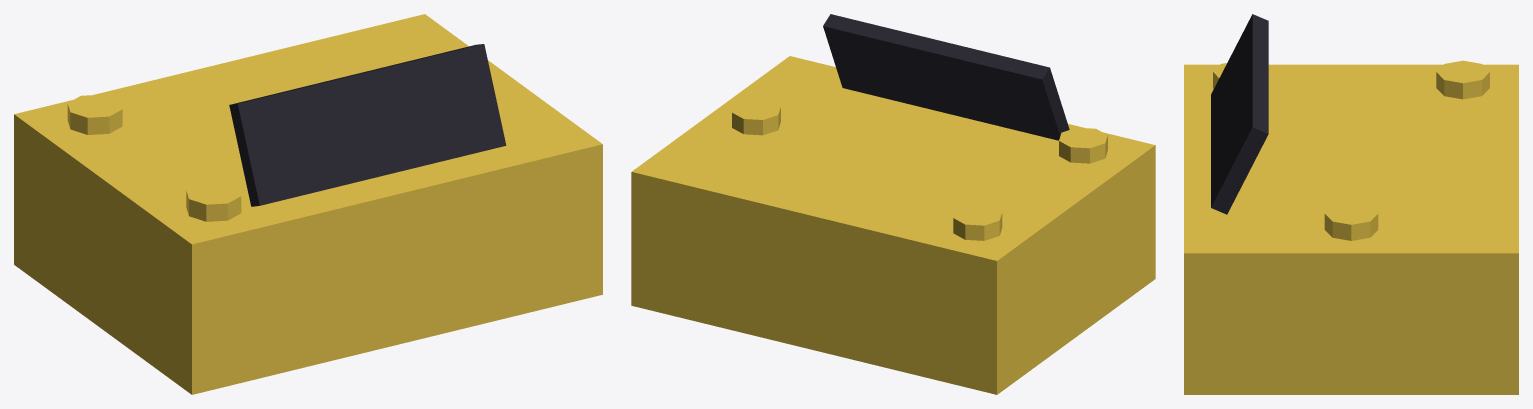
The model's file is Prop_Brk_AssemblyPiece_Cockpit_LOD1.glb.
3 renders of one model, left to right at view 1: azimuth 30°, elevation 25°; view 2: azimuth 150°, elevation 25°; view 3: azimuth 270°, elevation 25°, orthographic. The views are drawn at different scales.
Visible parts, largest first — view 1: Prop_Brk_AssemblyPiece_Cockpit; view 2: Prop_Brk_AssemblyPiece_Cockpit; view 3: Prop_Brk_AssemblyPiece_Cockpit.
Part boxes in pixels (x1,y1,x2,y2): Prop_Brk_AssemblyPiece_Cockpit: [14, 14, 602, 394]; Prop_Brk_AssemblyPiece_Cockpit: [631, 14, 1155, 394]; Prop_Brk_AssemblyPiece_Cockpit: [1184, 14, 1518, 394].
Bounding box in the file's own units: 1 × 0.5681 × 0.75.
